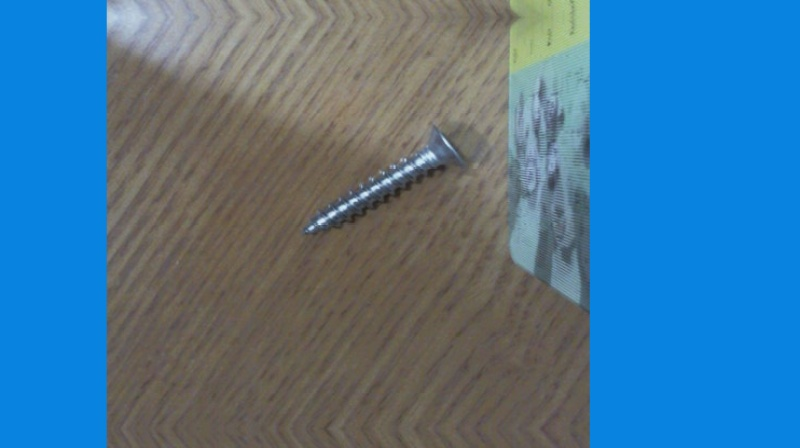S001: (294, 122, 476, 242)
